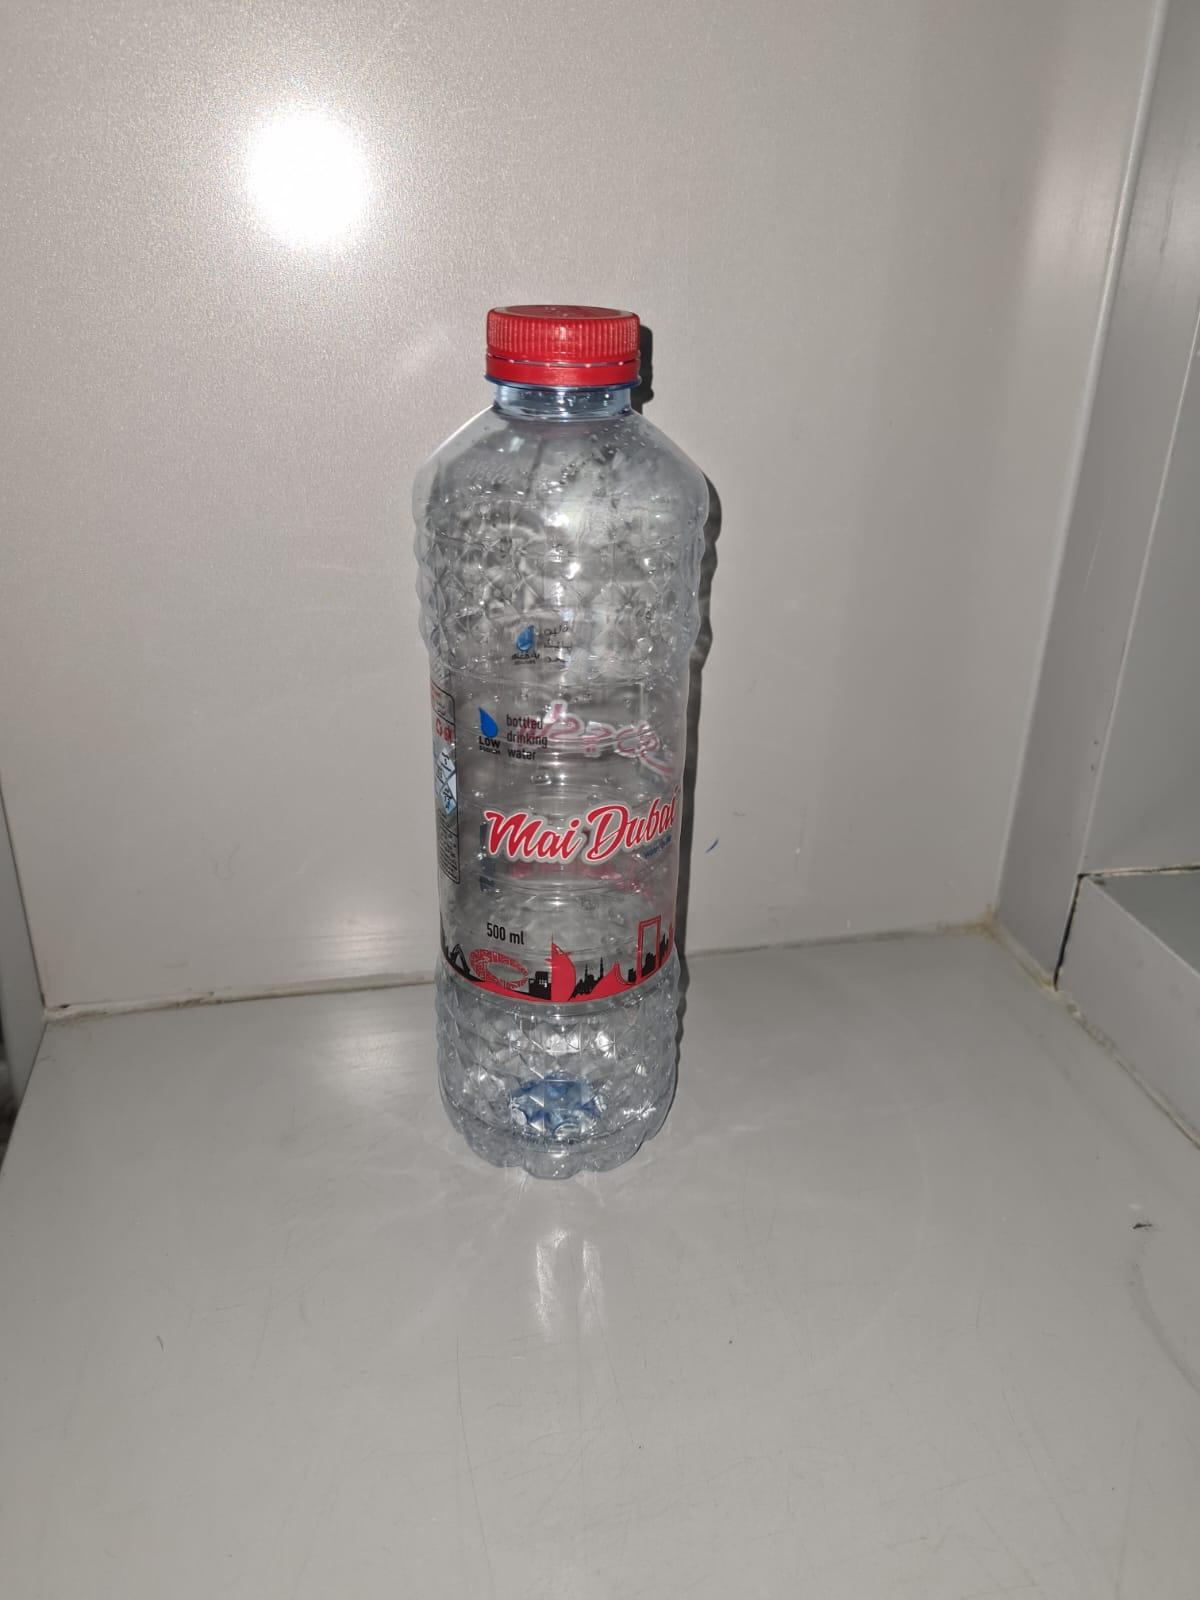bottle: (401, 297, 740, 1164)
